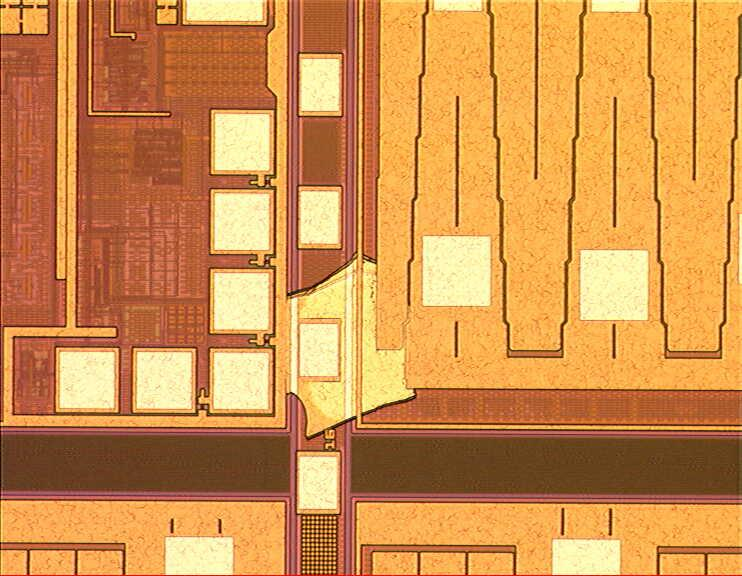BLOCK ETCH: (286, 253, 419, 440)
